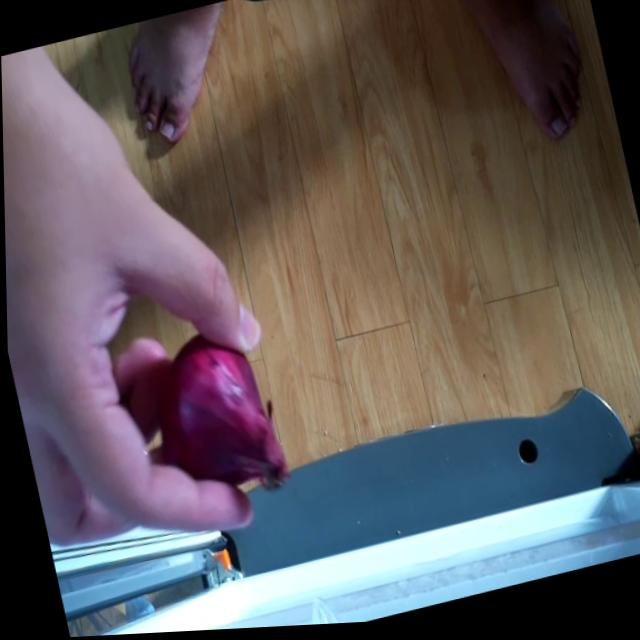onion: (140, 324, 287, 521)
